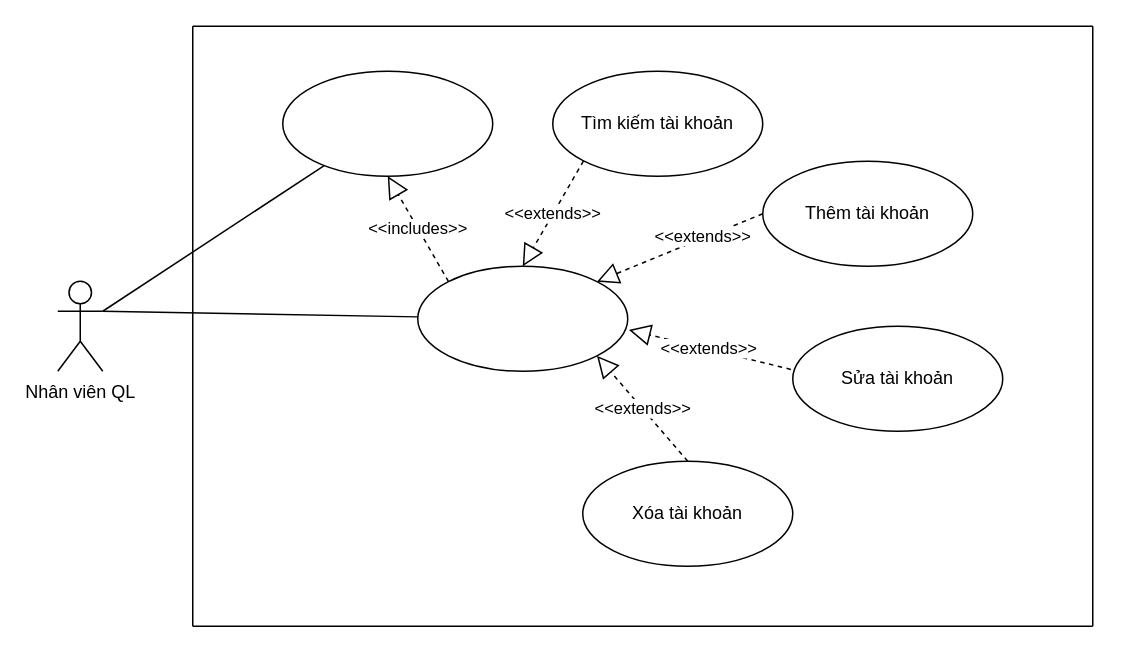
Image size: 1121x654. Some labels were removed from this diagram. The shapes that lost their labels are listed below. From the top down, each one's centre as x and y in pixels, then its label:
At pixel 387 123: "Đăng nhập".
At pixel 522 318: "Quản lý tài khoản đăng nhập".
